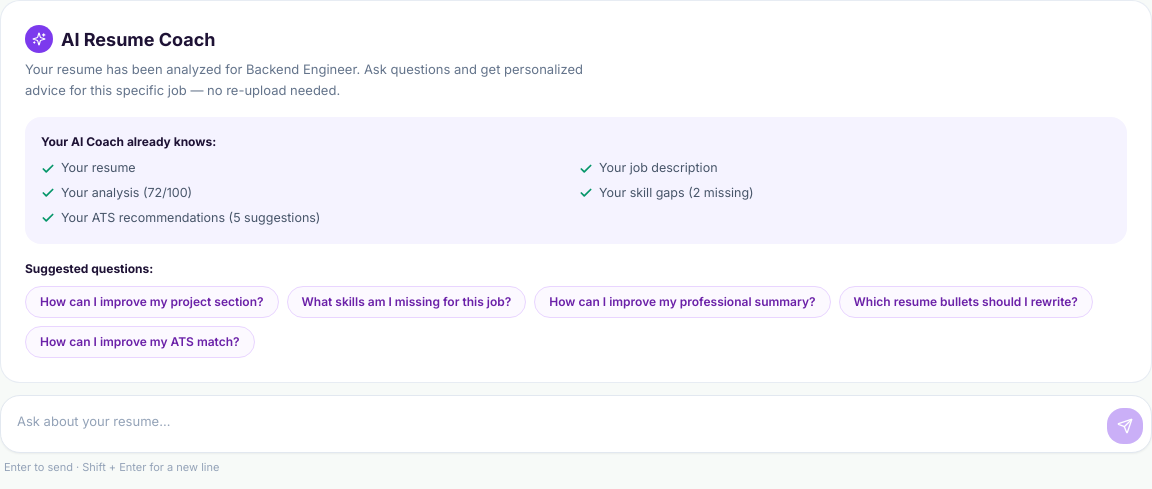
Test: AICoach › shows a typing indicator while sending
Type "Hello coach" into the text box labelled "Ask about your resume" at [554, 424], box [9,404,1099,444]
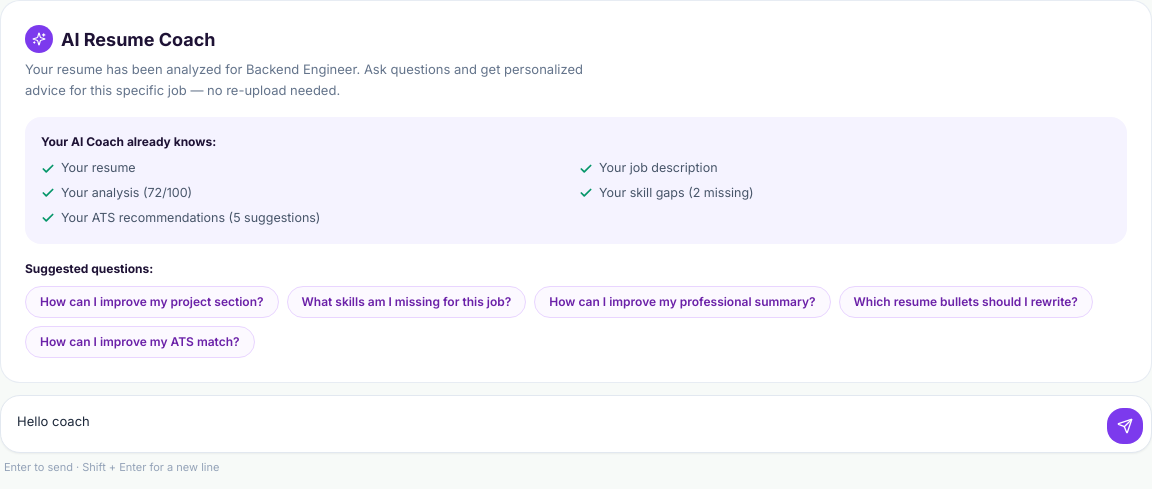
Click the button named "Send message" at [1125, 426], box [1107,408,1143,444]
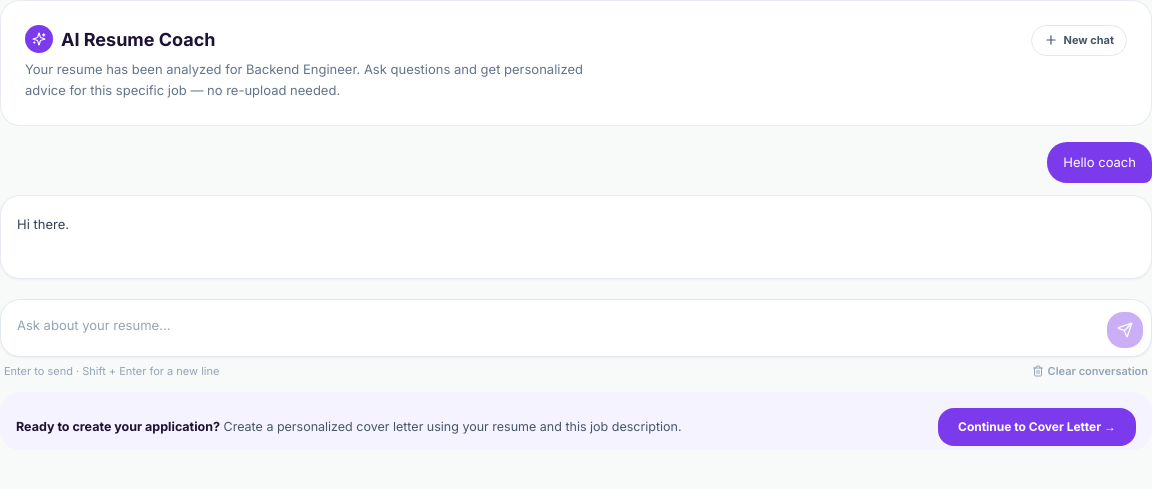
Expected: the text "Hi there." is shown, [17,216,69,232]
